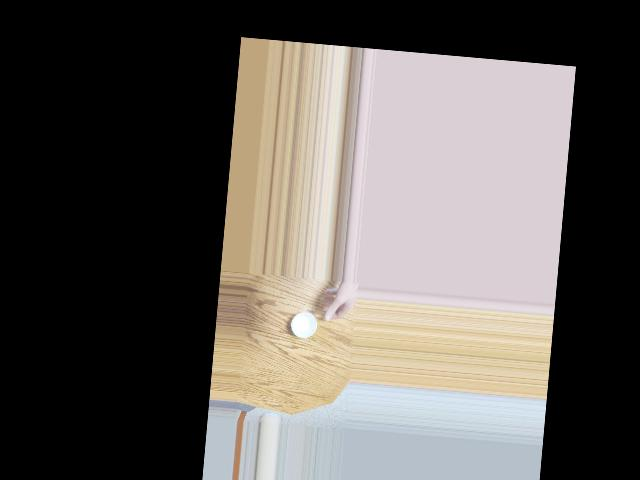cotage: (290, 304, 321, 339)
